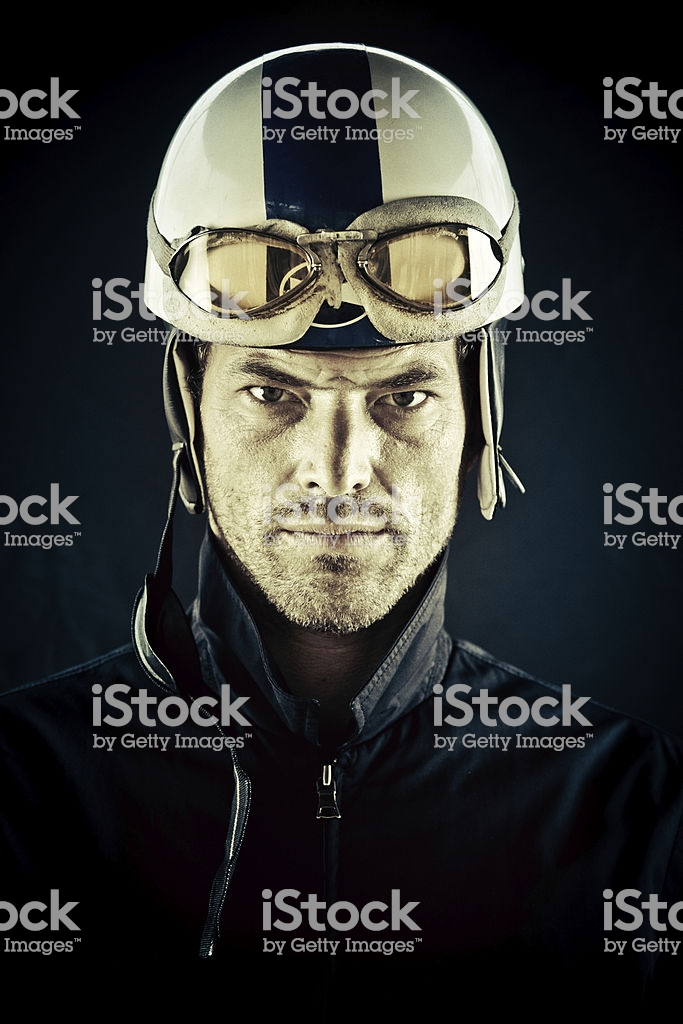helmet: (133, 56, 553, 357)
